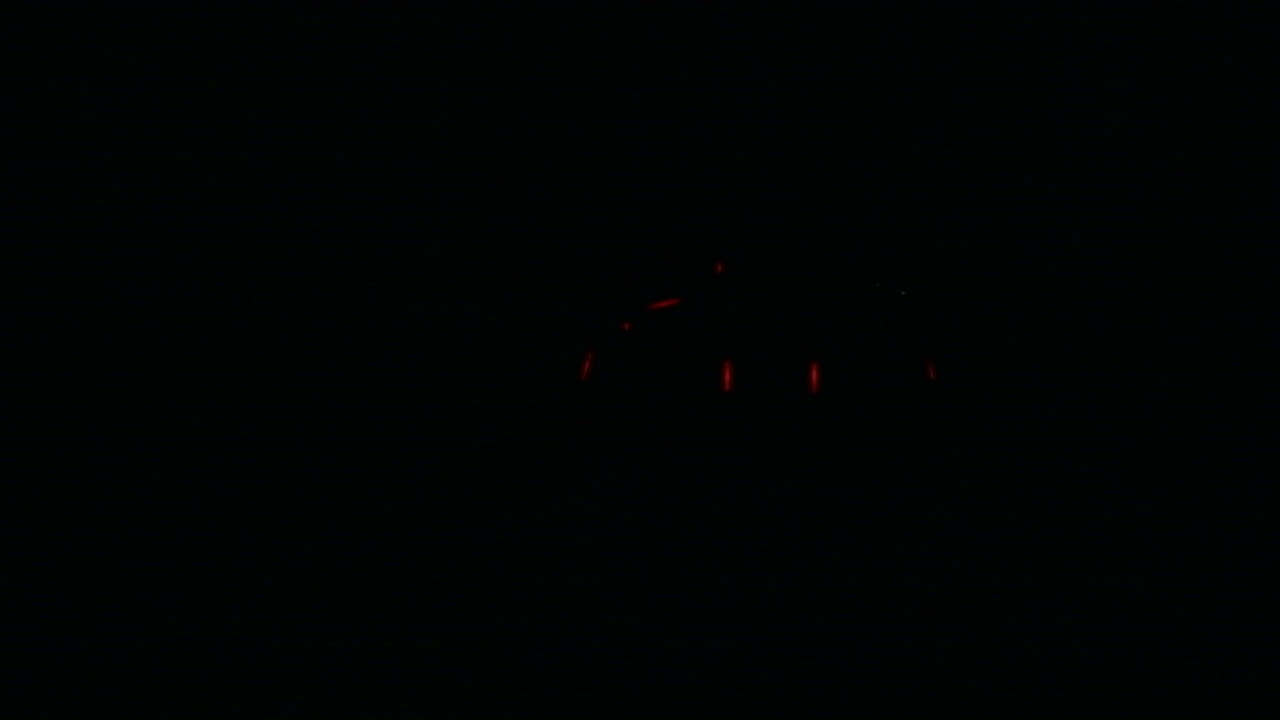lamp: (572, 344, 593, 396), (718, 361, 735, 395), (809, 361, 824, 397)
notpair1: (574, 346, 734, 397)
pair1: (719, 361, 824, 395)
